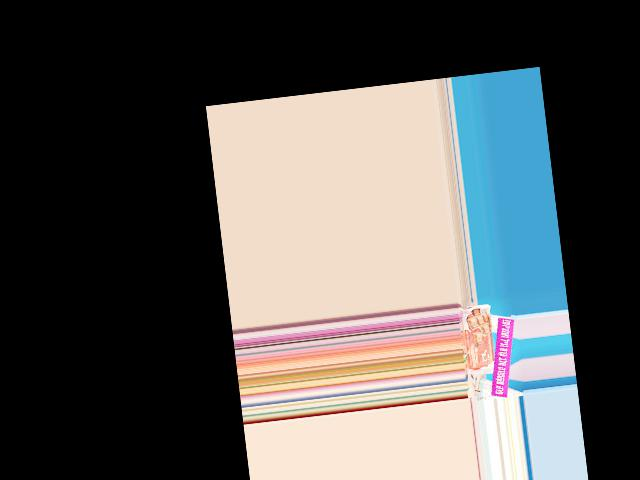chocolate: (459, 301, 499, 377)
